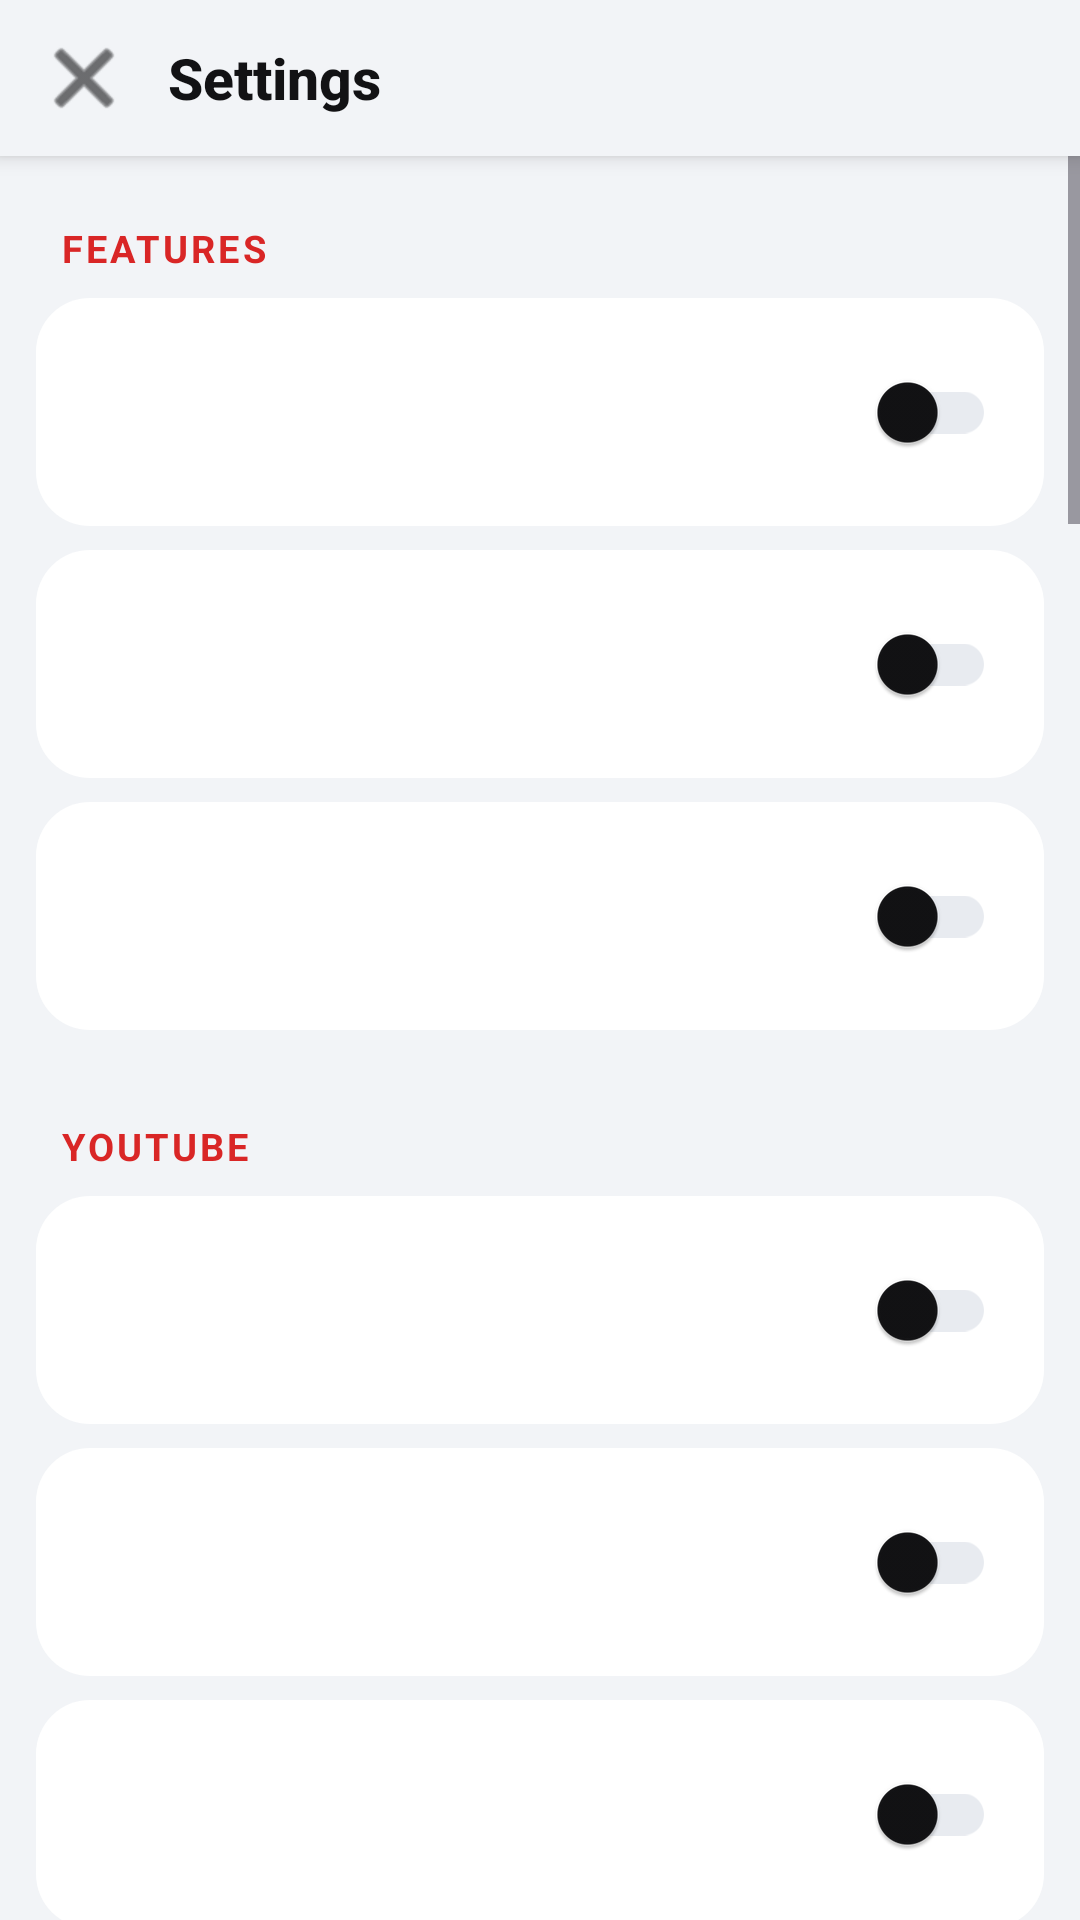

Named icons in this screenshot (1080 x 1920) and their centers, point (x, y):
Back: point (84, 78)
